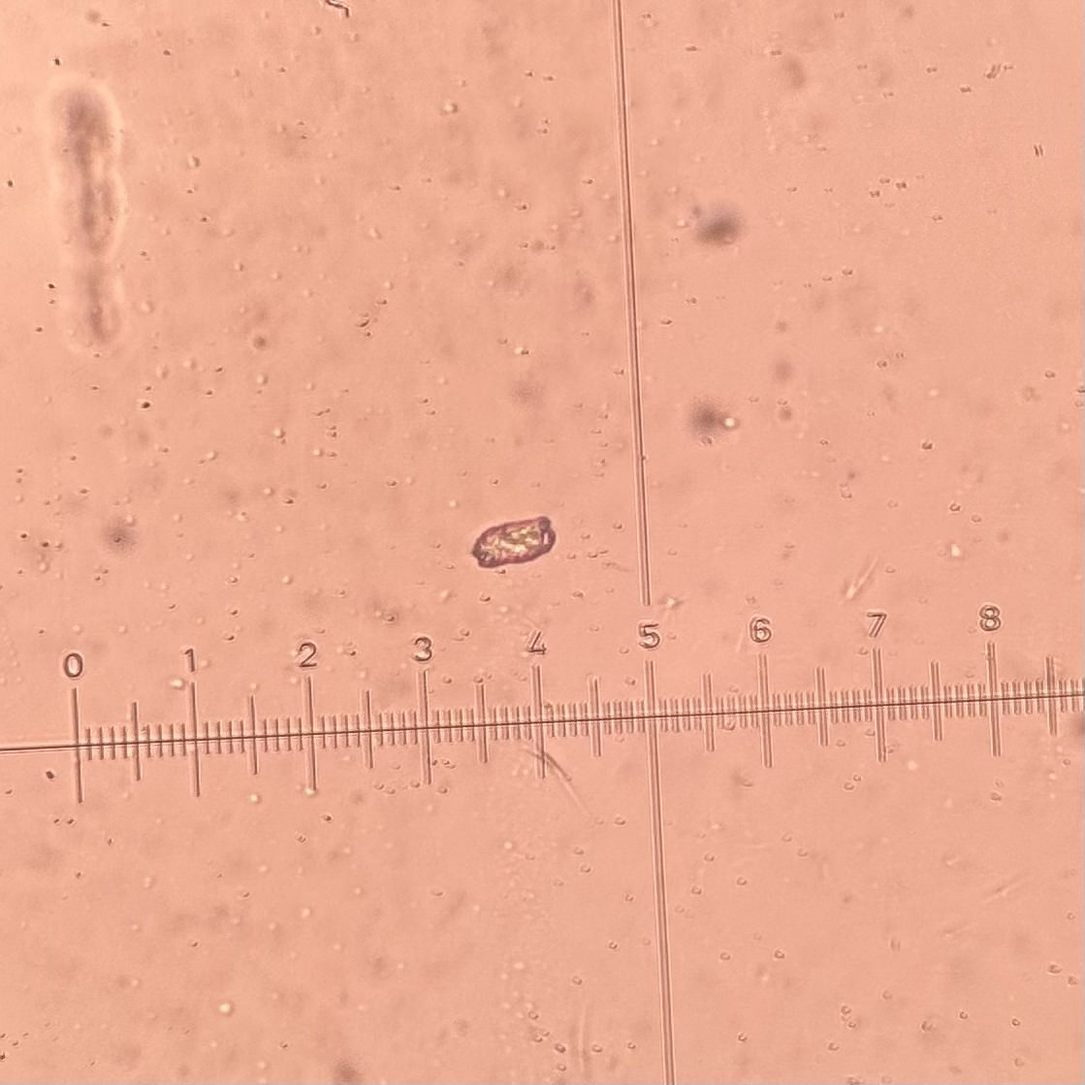not_microplastic: (36, 80, 143, 334), (468, 517, 564, 567), (689, 399, 722, 436), (704, 211, 738, 239)
